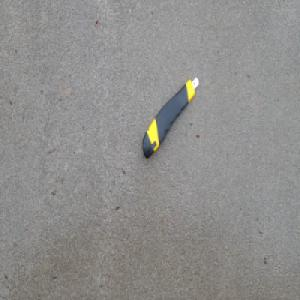Cutter: (142, 74, 200, 160)
